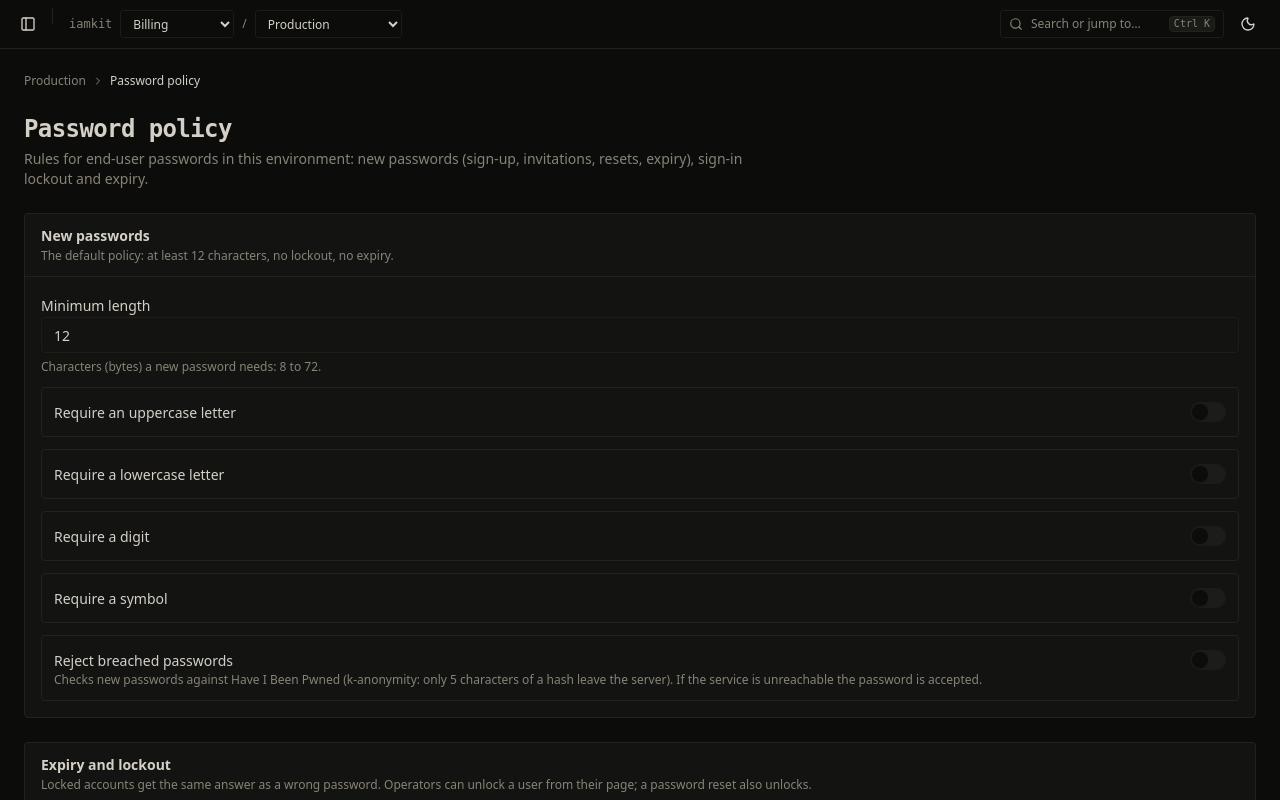
Test case: shows server validation errors
Replace the text in the number field labelled "Minimum length" with "7" at (640, 335), box [41,317,1239,353]
(page scrolled)
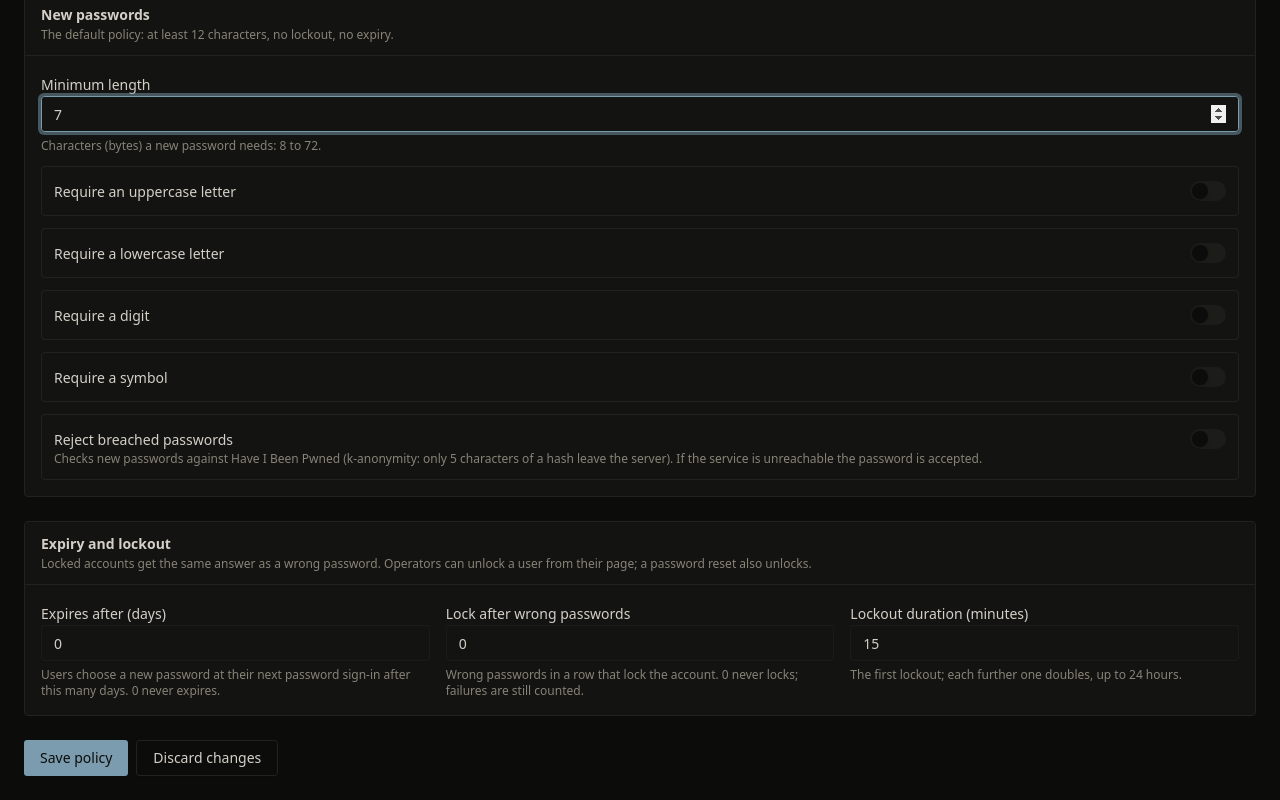
Click the button "Save policy".
click(76, 758)  # box [24,740,128,776]
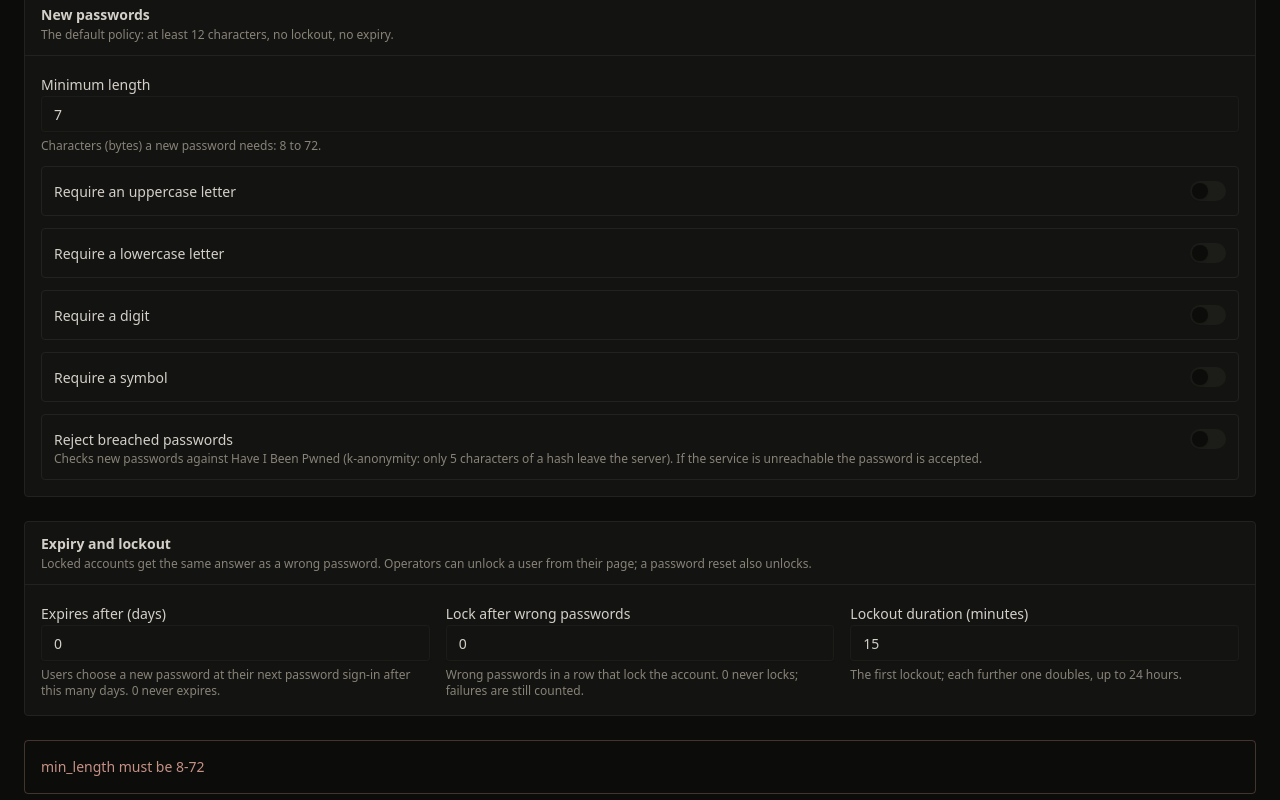
Now the text "min_length must be 8-72" is shown, box [41,757,204,776]
